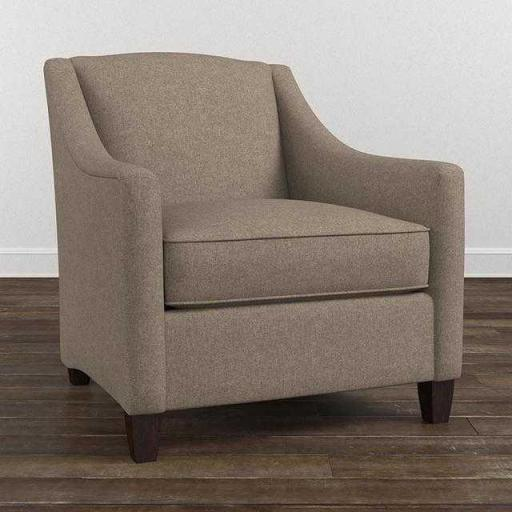chair: (40, 44, 472, 466)
